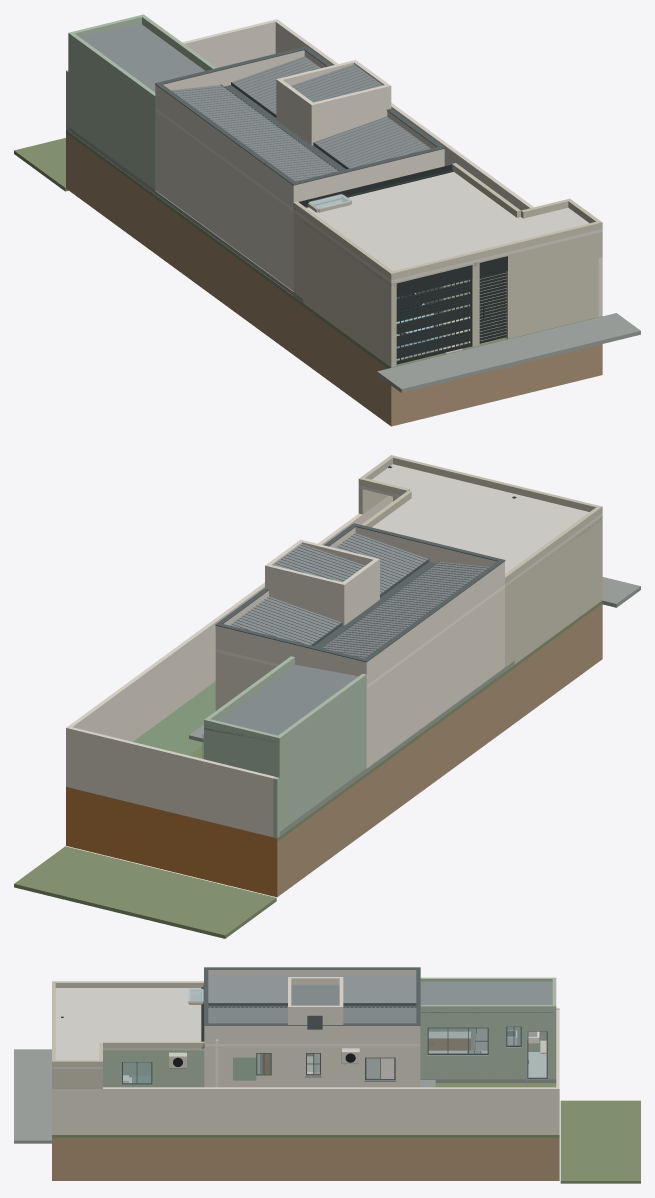
Rendered from casa-bp-escritorio-cafe-g05.glb.
The picture shows the model from 3 angles, top to bottom: view 1: azimuth 30°, elevation 25°; view 2: azimuth 150°, elevation 25°; view 3: azimuth 270°, elevation 25°; orthographic projection. The views are drawn at different scales.
Parts seen in each view (by area): view 1: Solo em corte esquemático — perfil lateral não levantado, G03 — laje contínua até a entrada existente (×3), Parede cega / divisa do desenho, G03 — fechamento frontal após porta social, Garagem — fechamento lateral proposto; apoios independentes , Fundos — fechamento esquerdo proposto, Passeio público — contexto ilustrativo, Volume elevado caixa d’água (×2), Platibanda frente / fundo (×2), Pano 1 — social, Fundos — cobertura independente ilustrativa, G03 — platibanda do conjunto frontal (×3) (+18 smaller); view 2: Solo em corte esquemático — perfil lateral não levantado, Face indicativa de contenção — 2 m estimados; seção e fundaç, Muro fundos — 2,00 m sobre terreno, G03 — laje contínua até a entrada existente (×3), Referência do nível do vizinho — extensão apenas ilustrativa, Parede cega / divisa do desenho, Muro lateral direito do desenho — 2,00 m, Garagem — fechamento lateral proposto; apoios independentes , Fundos — fechamento esquerdo proposto, Fundos — cobertura independente ilustrativa, Platibanda frente / fundo (×2), Volume elevado caixa d’água (×2) (+18 smaller); view 3: Muro lateral direito do desenho — 2,00 m, Solo em corte esquemático — perfil lateral não levantado, G03 — laje contínua até a entrada existente (×3), Referência do nível do vizinho — extensão apenas ilustrativa, Lateral existente — só janela do quarto reorganizada em A (×5), Platibanda lateral (×2), Pano 1 — social, Passeio público — contexto ilustrativo, Fundos — fechamento direito da cozinha (×4), Fundos — cobertura independente ilustrativa, Suíte ampliada — lateral para o corredor (×3), G03 — platibanda do conjunto frontal (×4) (+20 smaller).
Boxes of the visible parts, x1,y1,x2,y2 form: Solo em corte esquemático — perfil lateral não levantado: (66,133,602,426); G03 — laje contínua até a entrada existente (×3): (302,172,602,283); Parede cega / divisa do desenho: (155,111,293,290); G03 — fechamento frontal após porta social: (506,233,598,338); Garagem — fechamento lateral proposto; apoios independentes : (304,220,395,367); Fundos — fechamento esquerdo proposto: (68,47,155,189); Passeio público — contexto ilustrativo: (377,313,640,392); Volume elevado caixa d’água (×2): (276,78,387,145); Platibanda frente / fundo (×2): (163,50,440,201); Pano 1 — social: (171,85,337,181); Fundos — cobertura independente ilustrativa: (78,24,204,92); G03 — platibanda do conjunto frontal (×3): (293,163,602,280); Solo em corte esquemático — perfil lateral não levantado: (277,604,602,896); Face indicativa de contenção — 2 m estimados; seção e fundaç: (66,787,277,897); Muro fundos — 2,00 m sobre terreno: (70,727,275,837); G03 — laje contínua até a entrada existente (×3): (358,464,602,580); Referência do nível do vizinho — extensão apenas ilustrativa: (14,846,276,938); Parede cega / divisa do desenho: (366,587,504,767); Muro lateral direito do desenho — 2,00 m: (66,495,392,787); Garagem — fechamento lateral proposto; apoios independentes : (515,516,602,663); Fundos — fechamento esquerdo proposto: (275,689,366,831); Fundos — cobertura independente ilustrativa: (204,664,358,742); Platibanda frente / fundo (×2): (219,527,496,676); Volume elevado caixa d’água (×2): (269,558,379,625); Muro lateral direito do desenho — 2,00 m: (52,1087,559,1134); Solo em corte esquemático — perfil lateral não levantado: (52,1137,559,1180); G03 — laje contínua até a entrada existente (×3): (52,988,204,1068); Referência do nível do vizinho — extensão apenas ilustrativa: (560,1100,640,1183); Lateral existente — só janela do quarto reorganizada em A (×5): (204,1046,420,1087); Platibanda lateral (×2): (204,969,420,1043); Pano 1 — social: (208,974,416,1002); Passeio público — contexto ilustrativo: (14,1049,51,1143); Fundos — fechamento direito da cozinha (×4): (420,1017,496,1079); Fundos — cobertura independente ilustrativa: (420,981,552,1004); Suíte ampliada — lateral para o corredor (×3): (103,1050,204,1087); G03 — platibanda do conjunto frontal (×4): (52,981,204,1066).
Bounding box in the file's own units: 8.5 × 6.68 × 24.7.
